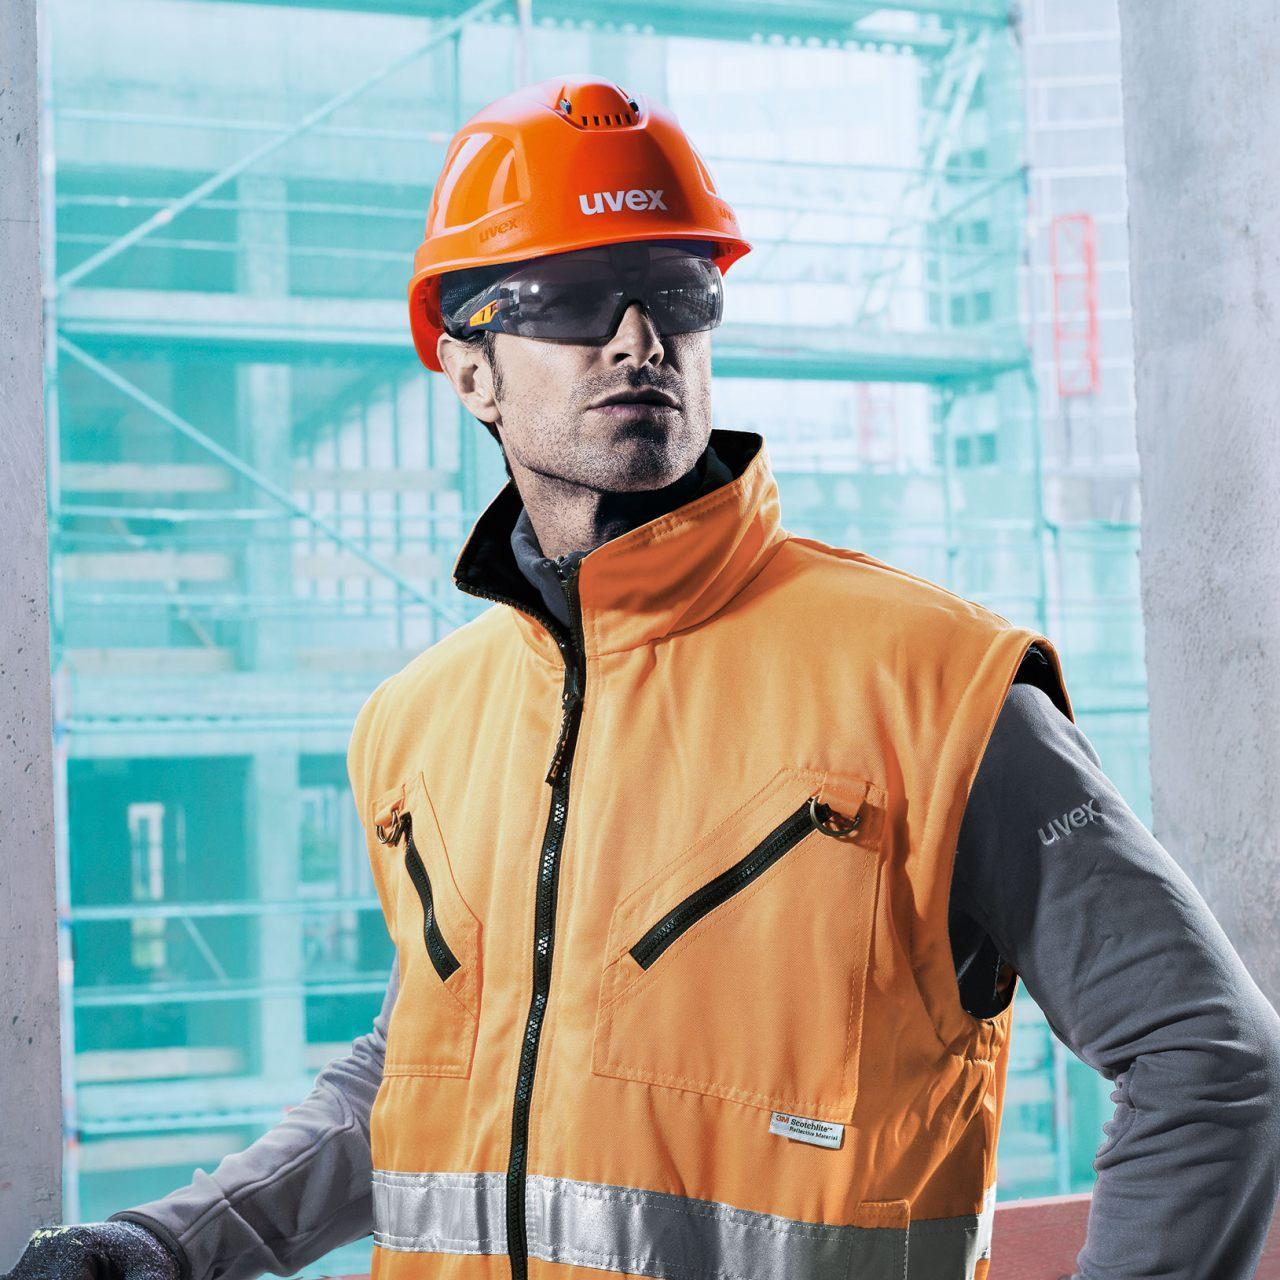helmet: (411, 73, 760, 299)
